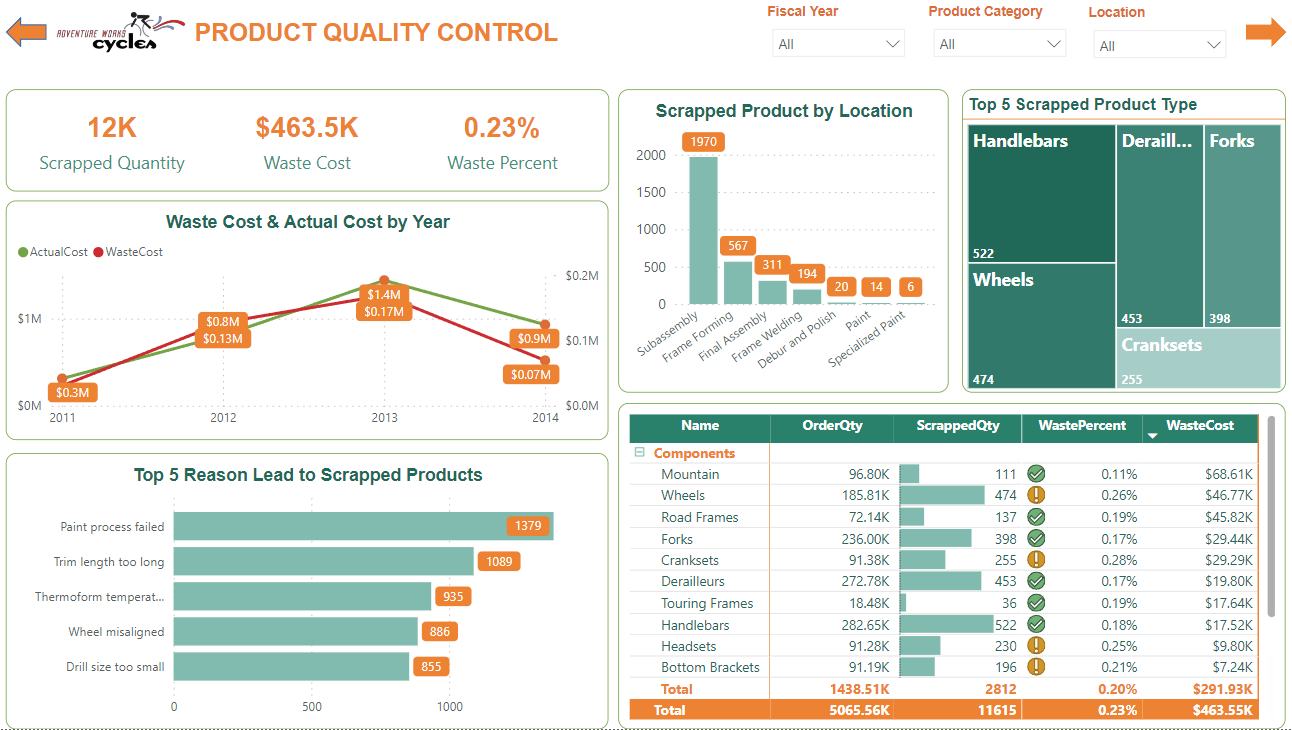

What the dashboard file says about the page in this screenshot:
{"tool":"powerbi","page":{"name":"Product Quality Control","canvas":[1280,720],"ordinal":2},"visuals":[{"type":"group","id":"g1","title":"header","box":[12.9,0,1252.9,80.4],"z":0},{"type":"cardVisual","title":"overview","fields":{"Data":["Sum(DW Fact_Manufacturing.ScrappedQty)","DAX.WasteCost","DAX.WastePercent"]},"box":[13.5,94.2,590.6,100.3],"z":1000},{"type":"image","title":"logo","box":[57.2,0.4,138.6,80],"z":1500,"group":"g1"},{"type":"textbox","title":"title","box":[192.2,20.4,382.9,40],"z":1750,"group":"g1"},{"type":"lineChart","title":"Waste Cost & Actual Cost by Year","fields":{"Y2":["DAX.WasteCost"],"Y":["Sum(DW Fact_Manufacturing.ActualCost)"],"Category":["Calendar.Date.Variation.Date Hierarchy.Year"]},"box":[13.5,203,589.4,234.8],"z":2000},{"type":"clusteredBarChart","title":"Top 5 Reason Lead to Scrapped Products","fields":{"Category":["DW Dim_ScrapReason.ScrapReasonName"],"Y":["Sum(DW Fact_Manufacturing.ScrappedQty)"]},"box":[13.5,450,589.4,258],"z":3000},{"type":"clusteredColumnChart","title":"Scrapped Product by Location","fields":{"Y":["Sum(DW Fact_Manufacturing.ScrappedQty)"],"Category":["DW Dim_Location.LocationName"]},"box":[612.6,94.2,322.8,297.1],"z":4000},{"type":"slicer","title":"Product Category","fields":{"Values":["DW Dim_Product.ProductCategoryName"]},"box":[904.7,0,160,70],"z":5000,"group":"g2"},{"type":"treemap","title":"Top 5 Scrapped Product Type","fields":{"Values":["Sum(DW Fact_Manufacturing.ScrappedQty)"],"Group":["DW Dim_Product.ProductSubCategoryName"]},"box":[948.9,94.2,316.7,297.1],"z":5000},{"type":"slicer","title":"Location","fields":{"Values":["DW Dim_Location.LocationName"]},"box":[1061.9,1.4,160,70],"z":6000,"group":"g2"},{"type":"pivotTable","fields":{"Rows":["DW Dim_Product.ProductCategoryName","DW Dim_Product.ProductSubCategoryName"],"Values":["Sum(DW Fact_Manufacturing.OrderQty)","Sum(DW Fact_Manufacturing.ScrappedQty)","DAX.WastePercent","DAX.WasteCost"]},"box":[612.6,401.1,653,306.9],"z":6000},{"type":"slicer","fields":{"Values":["Calendar.Date.Variation.Date Hierarchy.Month"]},"box":[612.6,6.1,121.1,74.6],"z":7000},{"type":"group","id":"g2","title":"filter","box":[747.6,0,474.3,71.4],"z":8001,"group":"g1"},{"type":"shape","title":"back","box":[12.9,22.9,40,30],"z":8251,"group":"g1"},{"type":"shape","title":"forward","box":[1225.8,22.9,40,30],"z":8501,"group":"g1"},{"type":"slicer","title":"Fiscal Year","fields":{"Values":["Calendar.Fiscal Year"]},"box":[747.6,0,160,70],"z":11000,"group":"g2"}]}

Visuals, with their boxes in screenshot pixels (x1, y1, x2, y2), scaled from the page's 1280x720 canvas onto the 1292x730 screenshot:
"header" group: crop(13, 0, 1278, 82)
"overview" cardVisual: crop(14, 96, 610, 197)
"logo" image: crop(58, 0, 198, 82)
"title" textbox: crop(194, 21, 580, 61)
"Waste Cost & Actual Cost by Year" lineChart: crop(14, 206, 609, 444)
"Top 5 Reason Lead to Scrapped Products" clusteredBarChart: crop(14, 456, 609, 718)
"Scrapped Product by Location" clusteredColumnChart: crop(618, 96, 944, 397)
"Product Category" slicer: crop(913, 0, 1075, 71)
"Top 5 Scrapped Product Type" treemap: crop(958, 96, 1277, 397)
"Location" slicer: crop(1072, 1, 1233, 72)
pivotTable - DW Dim_Product.ProductCategoryName x DW Dim_Product.ProductSubCategoryName: crop(618, 407, 1277, 718)
slicer - Calendar.Date.Variation.Date Hierarchy.Month: crop(618, 6, 741, 82)
"filter" group: crop(755, 0, 1233, 72)
"back" shape: crop(13, 23, 53, 54)
"forward" shape: crop(1237, 23, 1278, 54)
"Fiscal Year" slicer: crop(755, 0, 916, 71)
